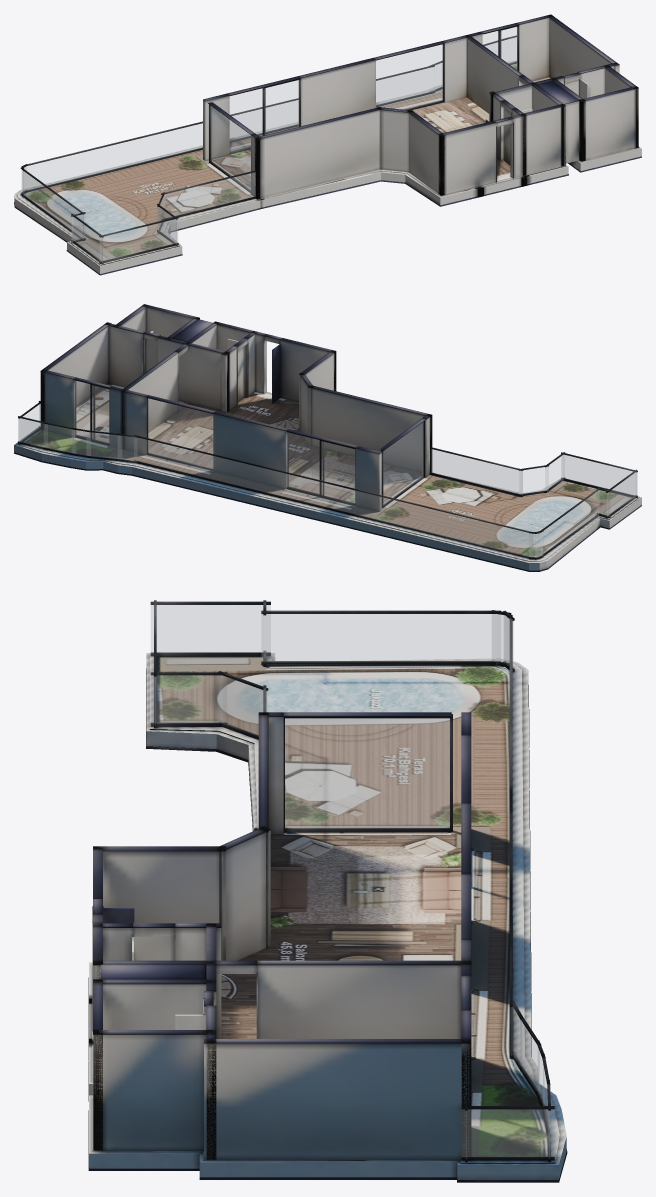
3 renders of one model, top to bottom at view 1: azimuth 30°, elevation 25°; view 2: azimuth 150°, elevation 25°; view 3: azimuth 270°, elevation 25°, orthographic. The views are drawn at different scales.
Parts seen in each view (by area): view 1: plan, railg2_m, glass2_m, glass1_m, railg5_m, glass0_m, railg6_m, railg14_m, glass3_m, railg15_m, railg13_m; view 2: plan, railg2_m, glass1_m, glass2_m, glass0_m, railg5_m, railg6_m, glass3_m, railg14_m, railg8_m, railg10_m, railg16_m (+6 smaller); view 3: plan, glass0_m, railg14_m, railg15_m, railg12_m, railg13_m, railg16_m, railg8_m, railg0_m.
Part boxes in pixels (x1,y1,x2,y2): plan: [14, 14, 641, 275]; railg2_m: [24, 67, 433, 190]; glass2_m: [376, 44, 442, 109]; glass1_m: [230, 80, 298, 151]; railg5_m: [161, 172, 255, 218]; glass0_m: [210, 106, 250, 190]; railg6_m: [100, 219, 177, 261]; railg14_m: [22, 170, 83, 238]; glass3_m: [483, 27, 517, 69]; railg15_m: [72, 217, 102, 261]; railg13_m: [157, 207, 176, 243]; plan: [14, 304, 641, 571]; railg2_m: [134, 438, 533, 557]; glass1_m: [287, 432, 354, 502]; glass2_m: [148, 398, 212, 468]; glass0_m: [383, 422, 423, 504]; railg5_m: [431, 449, 522, 494]; railg6_m: [562, 455, 637, 495]; glass3_m: [75, 381, 108, 442]; railg14_m: [540, 490, 599, 556]; railg8_m: [86, 432, 121, 459]; railg10_m: [44, 424, 75, 453]; railg16_m: [519, 466, 548, 494]; plan: [88, 600, 567, 1182]; glass0_m: [285, 718, 449, 828]; railg14_m: [261, 614, 500, 661]; railg15_m: [151, 605, 270, 652]; railg12_m: [462, 1109, 554, 1156]; railg13_m: [151, 675, 226, 722]; railg16_m: [219, 676, 267, 735]; railg8_m: [520, 1019, 539, 1093]; railg0_m: [492, 614, 508, 662].
Bounding box in the file's own units: 21.31 × 2.62 × 8.41.
Materials: 2 (1 with a texture image).
